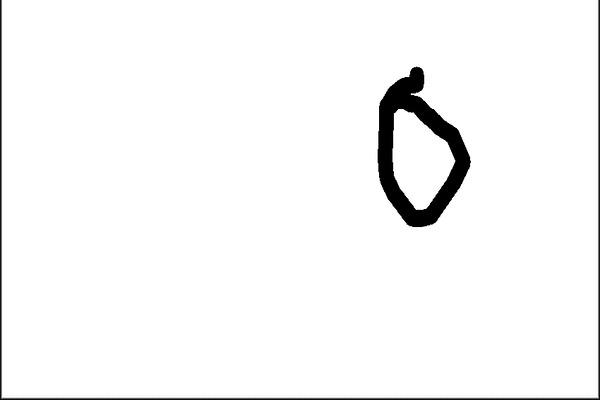O: (352, 61, 480, 235)
